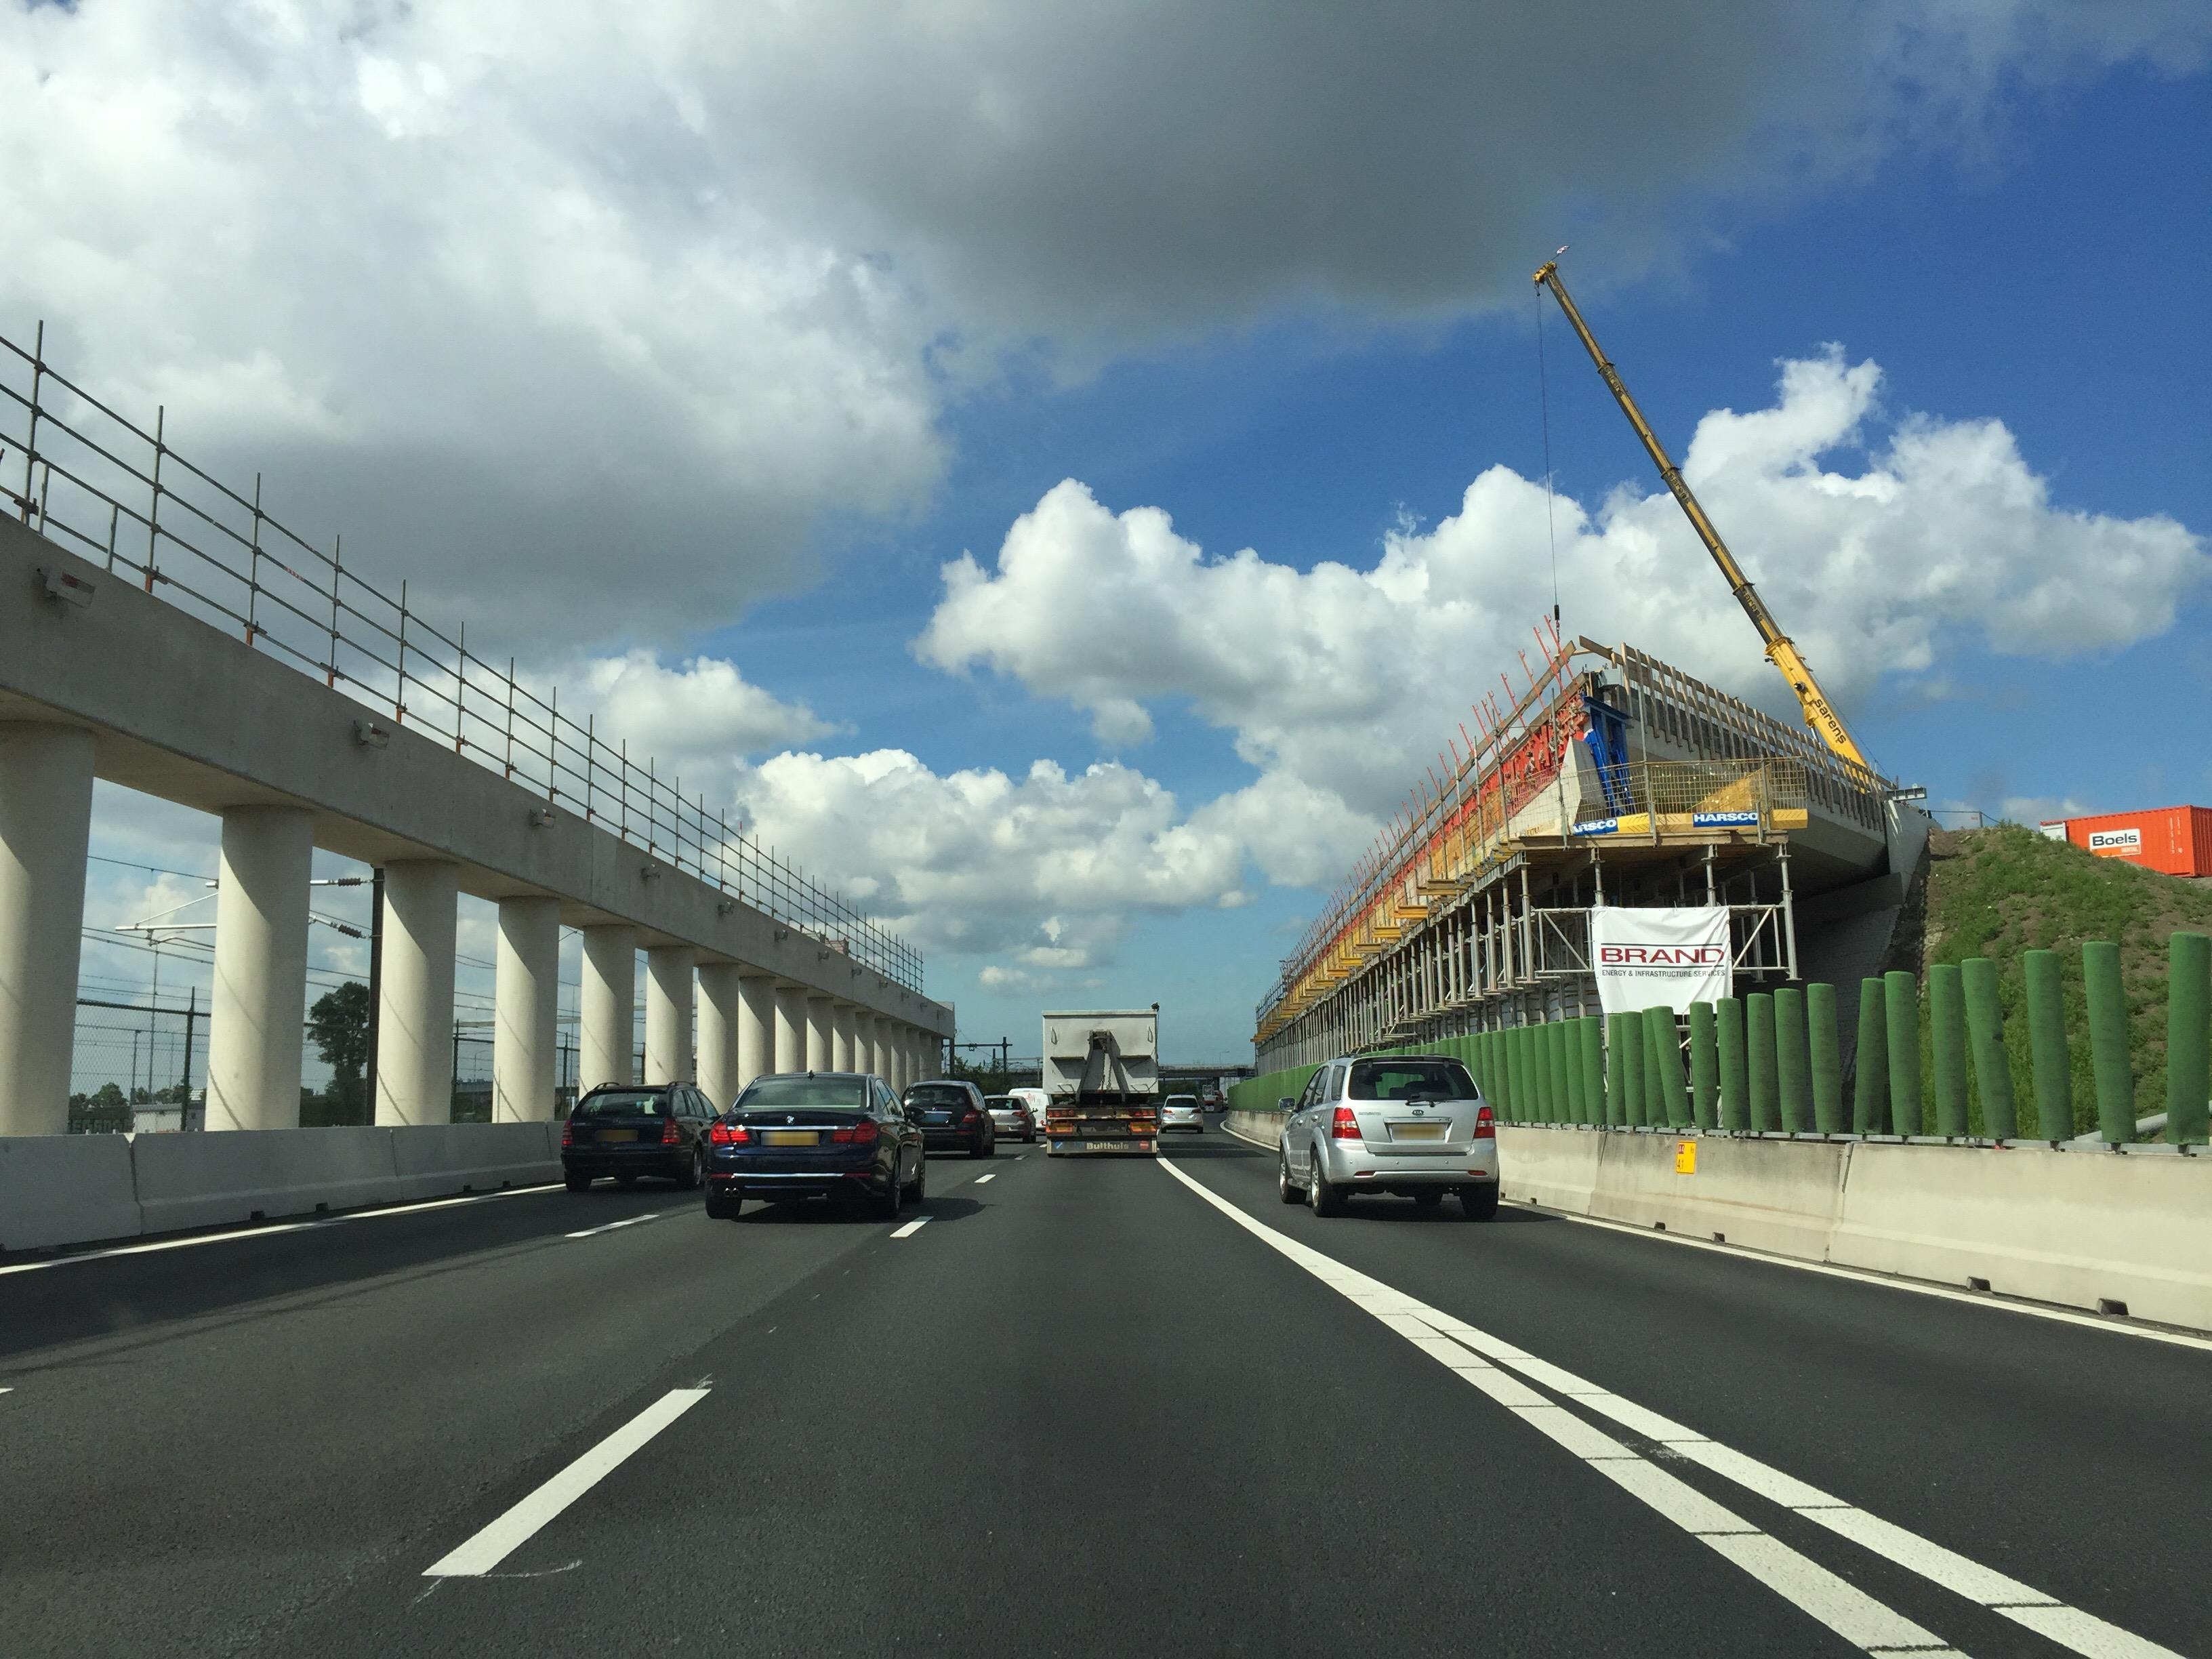vinyl banner: (1585, 897, 1756, 1042)
